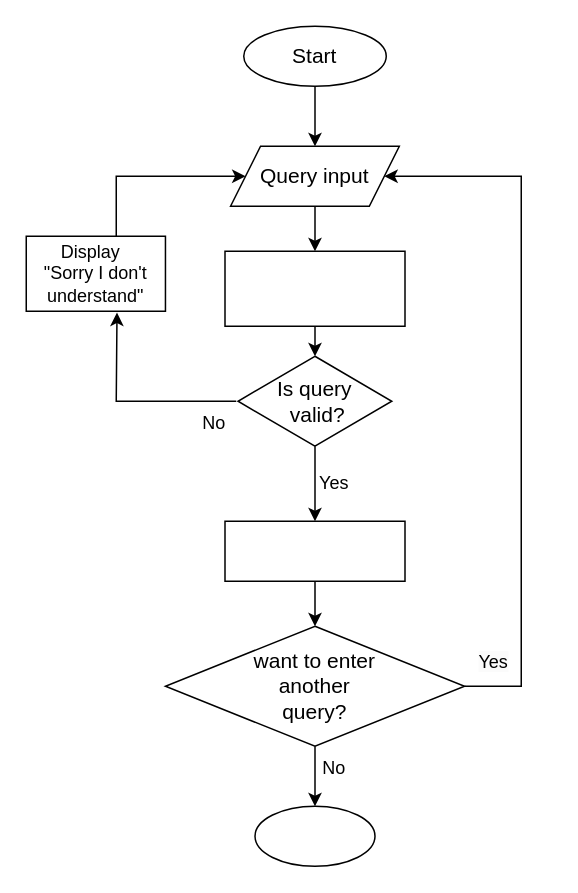
Image size: 578x893. Some labels were removed from this diagram. The shapes that lost their labels are listed below. From the top down, each one's box as (x1, y1, x2, y2) in pixels, then its label:
(224, 250, 405, 326): NL processing
(224, 520, 405, 581): Response
(254, 805, 375, 866): End
